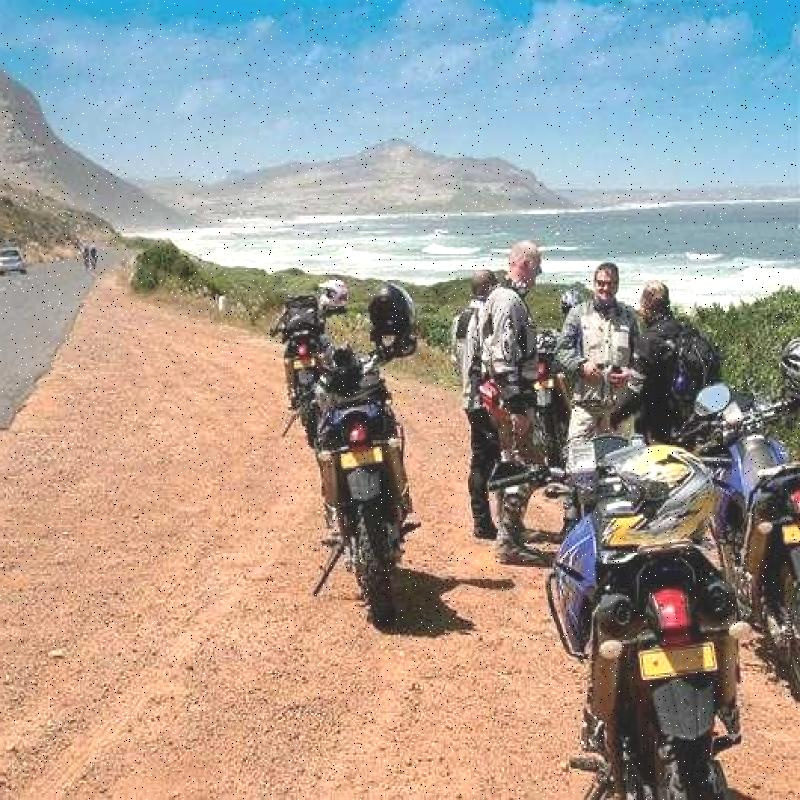bike: (562, 397, 733, 793), (300, 316, 416, 608), (722, 377, 800, 627), (263, 284, 342, 404)
